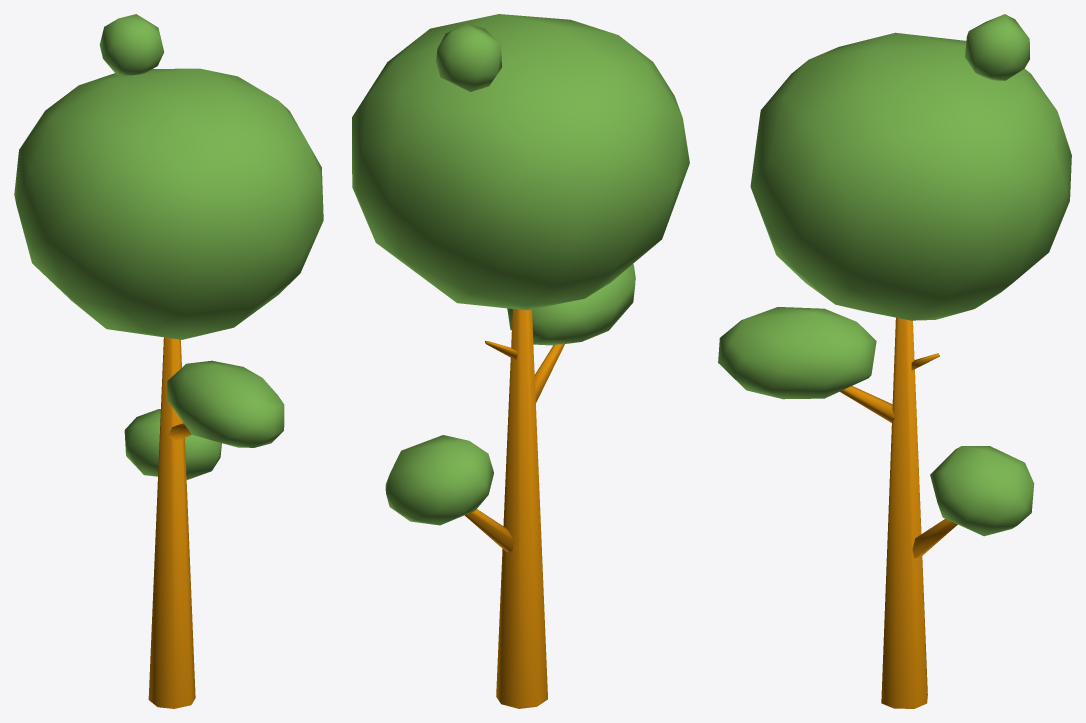
File: Tree_3.fbx
3 renders of one model, left to right at view 1: azimuth 30°, elevation 25°; view 2: azimuth 150°, elevation 25°; view 3: azimuth 270°, elevation 25°, orthographic. The views are drawn at different scales.
Parts seen in each view (by area): view 1: Tree_3; view 2: Tree_3; view 3: Tree_3.
Part boxes in pixels (box(x1,y1,x2,y2)): Tree_3: box(14, 14, 323, 708); Tree_3: box(352, 14, 689, 708); Tree_3: box(718, 14, 1071, 708).
Bounding box in the file's own units: 467 × 1086 × 511.
